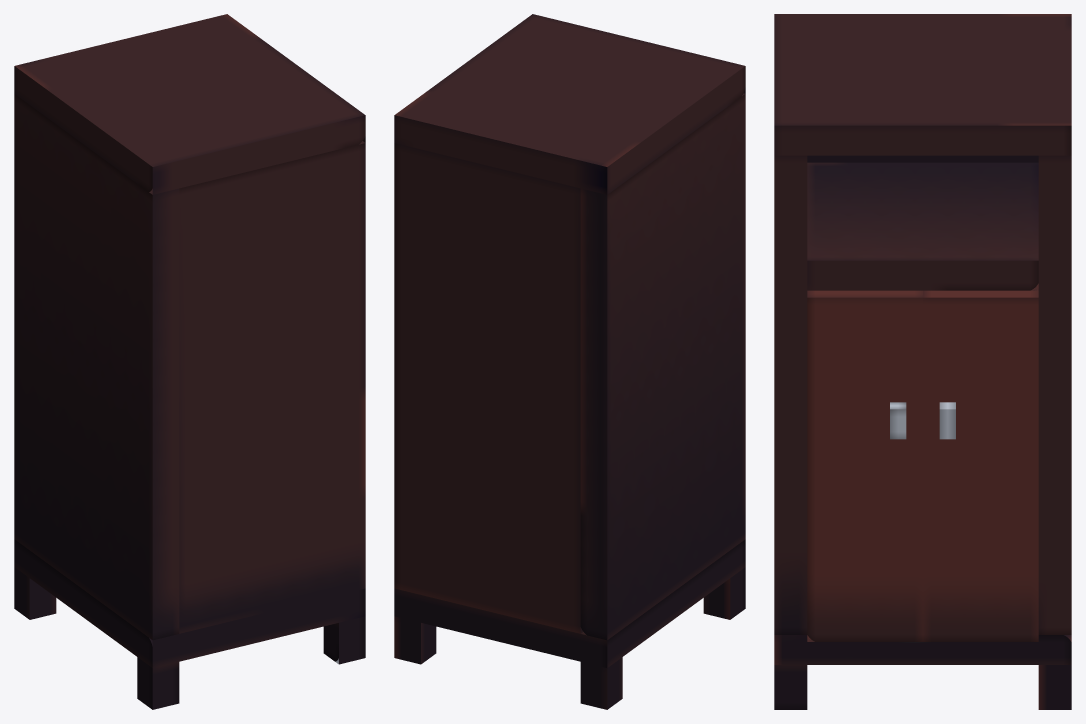
File: Closet.fbx
The picture shows the model from 3 angles, left to right: view 1: azimuth 30°, elevation 25°; view 2: azimuth 150°, elevation 25°; view 3: azimuth 270°, elevation 25°; orthographic projection. The views are drawn at different scales.
Visible parts, largest first — view 1: cube_7, cube_5, cube_8, cube_4, cube_3, cube_2, cube_1; view 2: cube_6, cube_5, cube_8, cube_4, cube_1, cube, cube_3; view 3: cube_8, cube_12, cube_9, cube_10, cube_6, cube_7, cube_4, cube_5, cube, cube_2, cube_11, cube_13.
Boxes of the visible parts, bbox=[...] form: cube_7: bbox=[179, 141, 365, 633]; cube_5: bbox=[14, 94, 179, 640]; cube_8: bbox=[14, 14, 365, 194]; cube_4: bbox=[14, 539, 365, 667]; cube_3: bbox=[137, 657, 179, 709]; cube_2: bbox=[323, 616, 365, 664]; cube_1: bbox=[14, 567, 56, 619]; cube_6: bbox=[394, 143, 582, 633]; cube_5: bbox=[580, 93, 745, 640]; cube_8: bbox=[394, 14, 745, 194]; cube_4: bbox=[394, 539, 745, 667]; cube_1: bbox=[580, 657, 622, 709]; cube: bbox=[394, 616, 436, 664]; cube_3: bbox=[703, 567, 745, 619]; cube_8: bbox=[774, 14, 1071, 155]; cube_12: bbox=[923, 286, 1038, 641]; cube_9: bbox=[807, 290, 922, 641]; cube_10: bbox=[807, 162, 1038, 290]; cube_6: bbox=[1038, 155, 1071, 634]; cube_7: bbox=[774, 155, 807, 634]; cube_4: bbox=[774, 635, 1071, 664]; cube_5: bbox=[807, 155, 1038, 162]; cube: bbox=[1038, 665, 1071, 709]; cube_2: bbox=[774, 665, 807, 709]; cube_11: bbox=[890, 402, 906, 439]; cube_13: bbox=[939, 402, 955, 439].
Size of the model in its own units: 112 by 244 by 112.
Materials: 1 (1 with a texture image).
